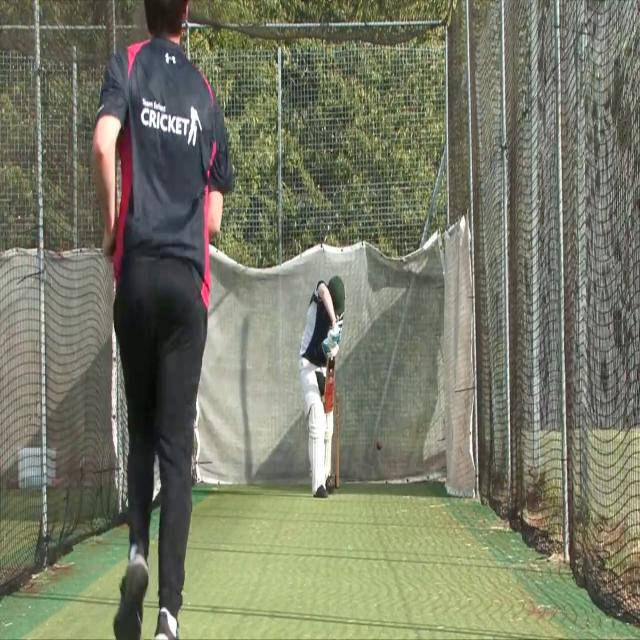batsman: (298, 273, 347, 500)
